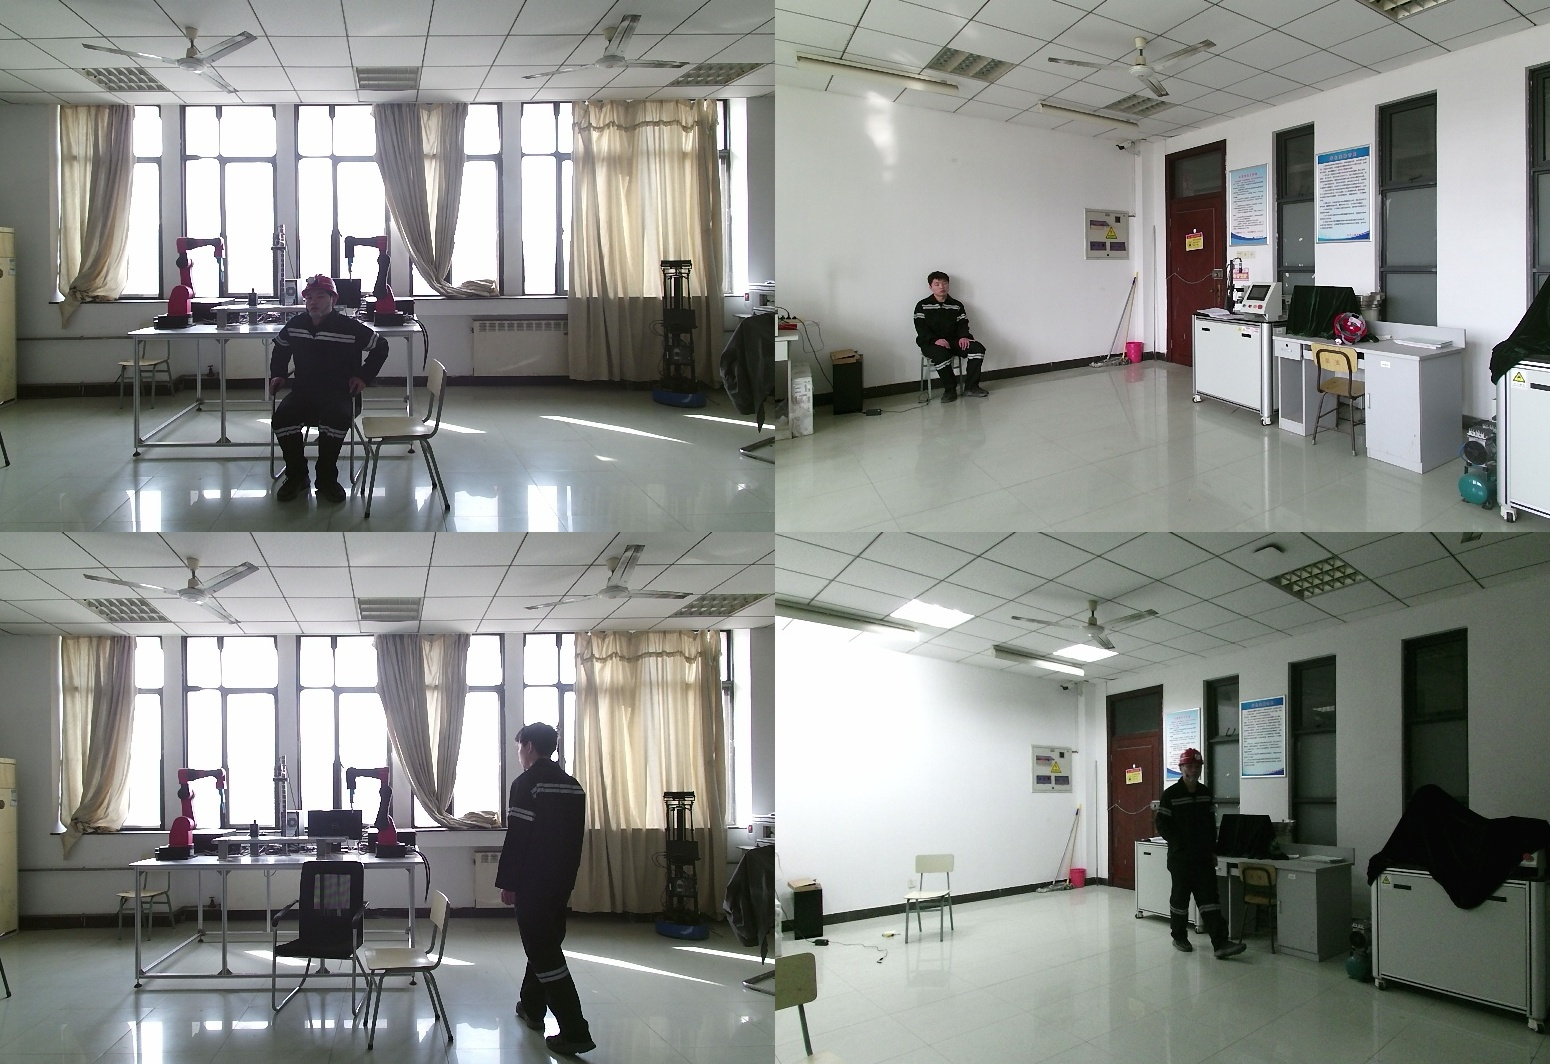person: (499, 726, 608, 1055), (268, 276, 395, 503), (1150, 750, 1249, 958), (914, 271, 990, 404)
